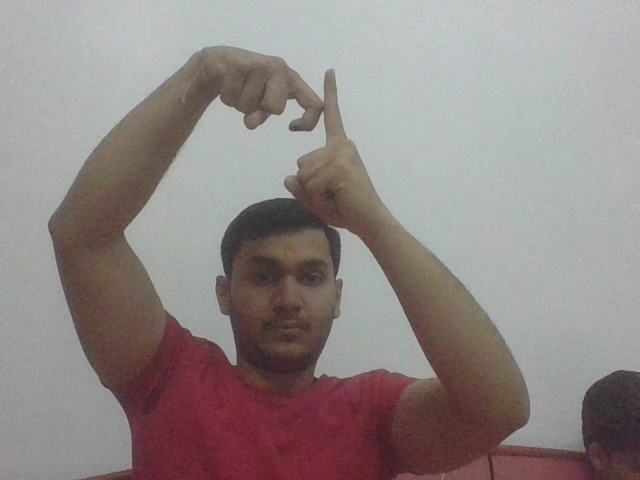K: (263, 50, 358, 163)
